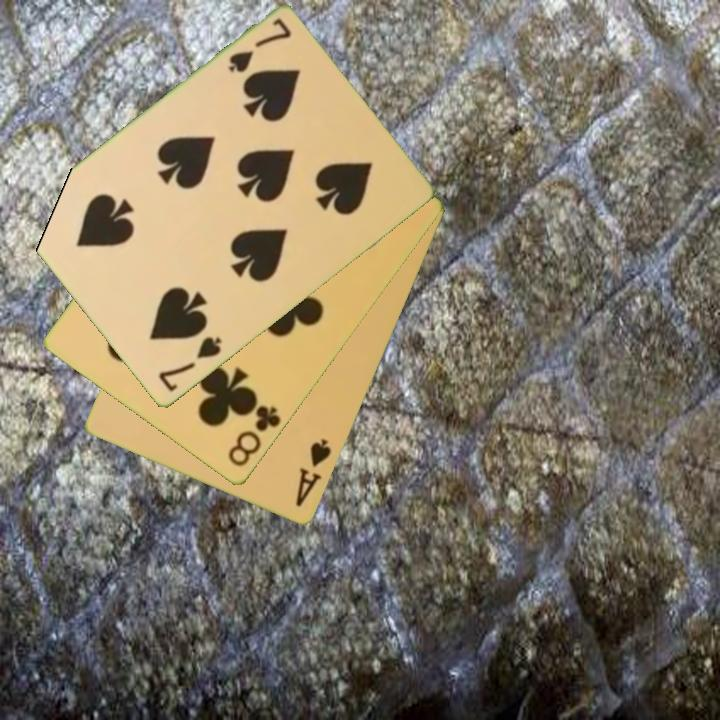7s: (154, 333, 225, 396), (224, 14, 294, 77)
8c: (224, 402, 284, 471)
As: (292, 435, 335, 510)
